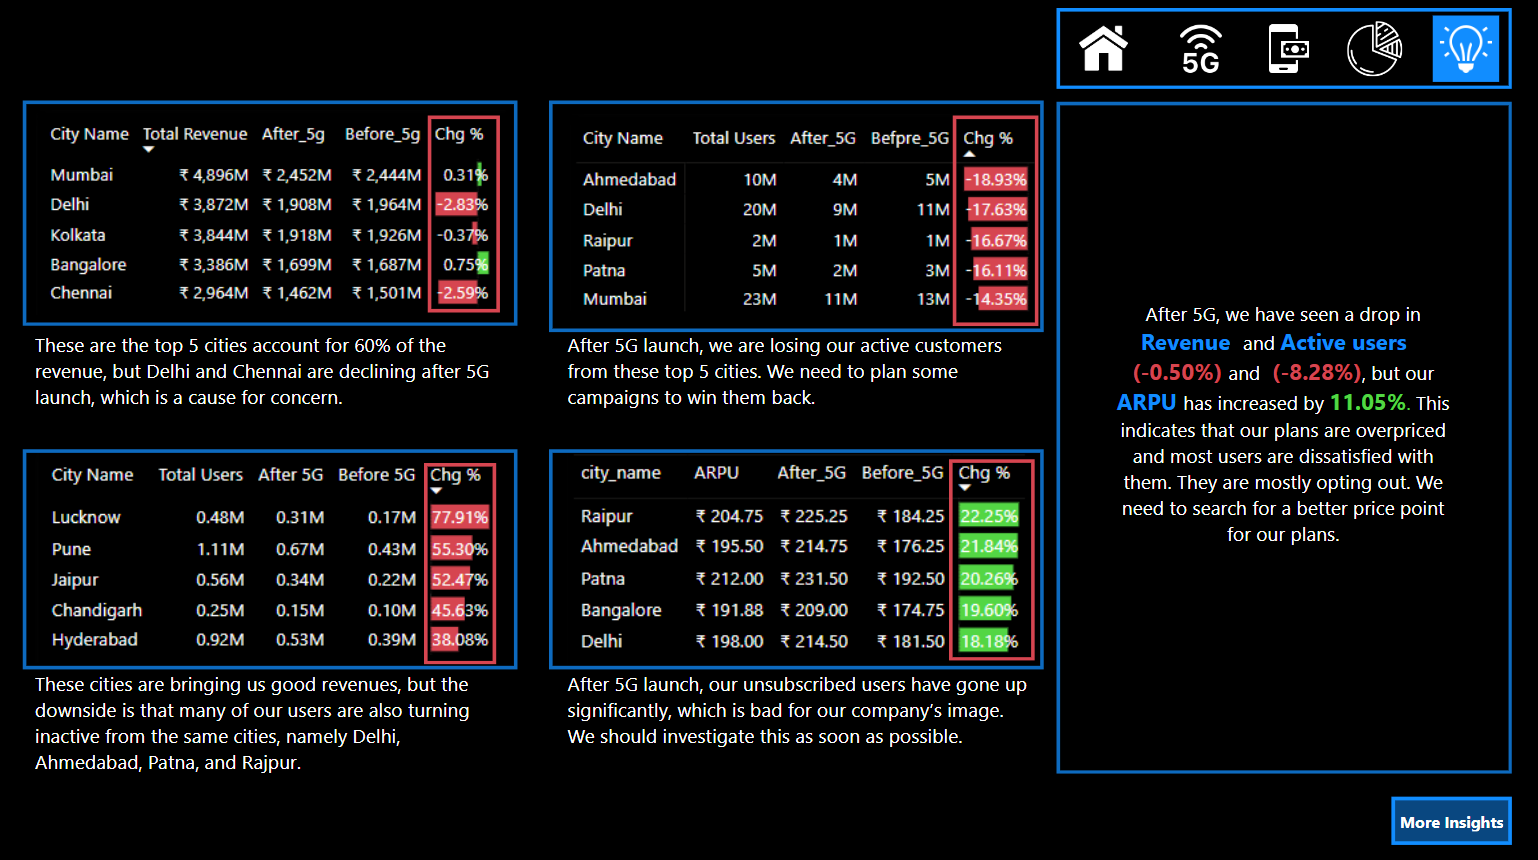

The page's visual inventory and layout, read from the dashboard file:
{"tool":"powerbi","page":{"name":"Insight 1","canvas":[1280,720],"ordinal":5},"visuals":[{"type":"shape","box":[20,85,411.2,187.5],"z":0},{"type":"shape","box":[457.5,85,411.2,192.5],"z":1000},{"type":"image","box":[469.5,43.8,400,270],"z":2000},{"type":"textbox","box":[467.7,272.2,402.5,82.5],"z":3000},{"type":"image","box":[467.5,329,400,270],"z":4000},{"type":"textbox","box":[468,554,396.2,98.8],"z":5000},{"type":"textbox","box":[25.4,554,400,98.8],"z":6000},{"type":"image","box":[25.6,43.8,400,270],"z":7000},{"type":"textbox","box":[25.4,272.5,400,82.5],"z":8000},{"type":"shape","box":[356.2,97.5,60,163.8],"z":9000},{"type":"shape","box":[792.5,97.5,71.2,175],"z":10000},{"type":"shape","box":[790,383.8,71.2,167.5],"z":11000},{"type":"shape","box":[878.8,86.2,378.8,558.8],"z":12000},{"type":"textbox","box":[917.5,246.2,300,236.5],"z":13000},{"type":"image","box":[24.9,329,400,270],"z":14000},{"type":"shape","box":[353.8,386.5,60,167.5],"z":15000},{"type":"shape","box":[20,375.2,411.2,183],"z":16000},{"type":"shape","box":[457.5,375.2,411.2,183],"z":17000},{"type":"shape","box":[879.2,8.8,378.8,67.5],"z":18000},{"type":"image","box":[890.4,15,55,55],"z":19000},{"type":"image","box":[971.7,15,55,55],"z":20000},{"type":"image","box":[1040.4,15,55,55],"z":21000},{"type":"image","box":[1115.4,15,55,55],"z":22000},{"type":"image","box":[1191.7,15,55,55],"z":23000},{"type":"actionButton","box":[1157.5,663.8,100,40],"z":24000}]}

Visuals, with their boxes in screenshot pixels (x1, y1, x2, y2), scaled from the page's 1280x720 canvas onto the 1538x860 screenshot:
shape: select_region(24, 102, 518, 325)
shape: select_region(550, 102, 1044, 331)
image: select_region(564, 52, 1045, 375)
textbox: select_region(562, 325, 1046, 424)
image: select_region(562, 393, 1042, 715)
textbox: select_region(562, 662, 1038, 780)
textbox: select_region(31, 662, 511, 780)
image: select_region(31, 52, 511, 375)
textbox: select_region(31, 325, 511, 424)
shape: select_region(428, 116, 500, 312)
shape: select_region(952, 116, 1038, 325)
shape: select_region(949, 458, 1035, 658)
shape: select_region(1056, 103, 1511, 770)
textbox: select_region(1102, 294, 1463, 577)
image: select_region(30, 393, 511, 715)
shape: select_region(425, 462, 497, 662)
shape: select_region(24, 448, 518, 667)
shape: select_region(550, 448, 1044, 667)
shape: select_region(1056, 11, 1512, 91)
image: select_region(1070, 18, 1136, 84)
image: select_region(1168, 18, 1234, 84)
image: select_region(1250, 18, 1316, 84)
image: select_region(1340, 18, 1406, 84)
image: select_region(1432, 18, 1498, 84)
actionButton: select_region(1391, 793, 1511, 841)
